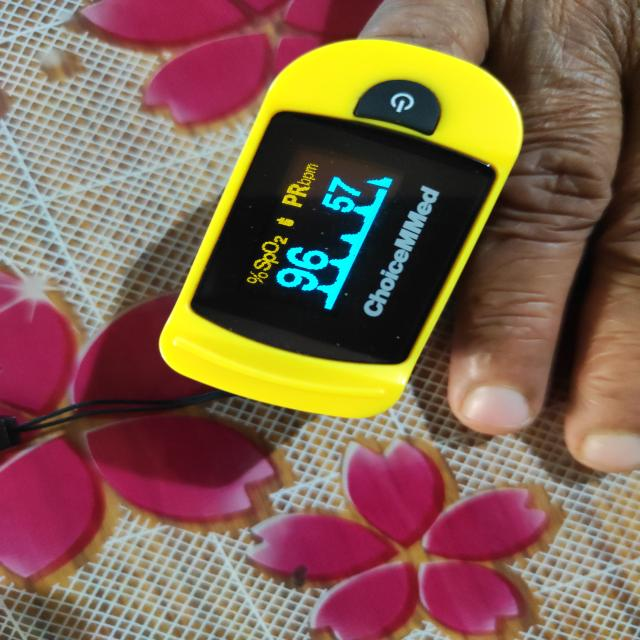display: (238, 138, 468, 346)
frame: (266, 235, 342, 298), (310, 164, 372, 222)
gauge: (156, 35, 526, 422)
